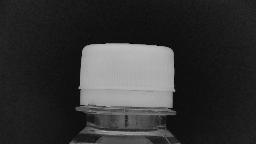Good Cap: (68, 37, 182, 118)
